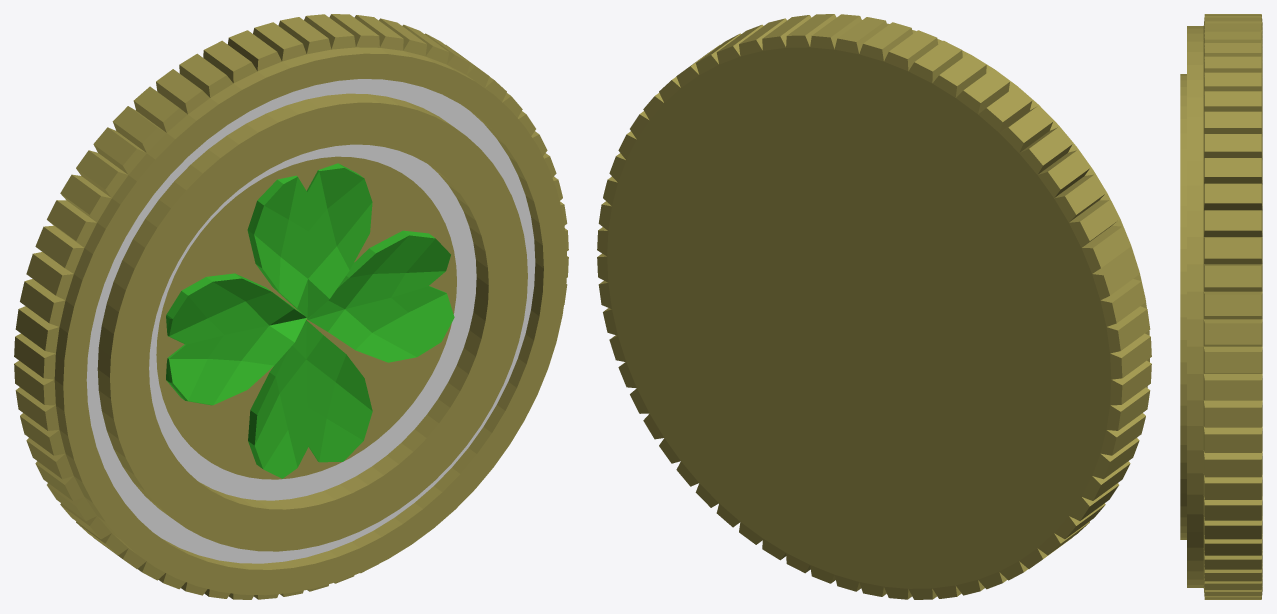
Rendered from money.fbx.
3 views of the same model, side by side, from view 1: azimuth 30°, elevation 25°; view 2: azimuth 150°, elevation 25°; view 3: azimuth 270°, elevation 25° (orthographic). The views are drawn at different scales.
Visible parts, largest first — view 1: Cylinder.023; view 2: Cylinder.023; view 3: Cylinder.023.
Boxes of the visible parts, x1,y1,x2,y2 form: Cylinder.023: (14, 14, 568, 599); Cylinder.023: (597, 14, 1151, 599); Cylinder.023: (1180, 14, 1262, 599).
Size of the model in its own units: 208 by 208 by 29.36.
